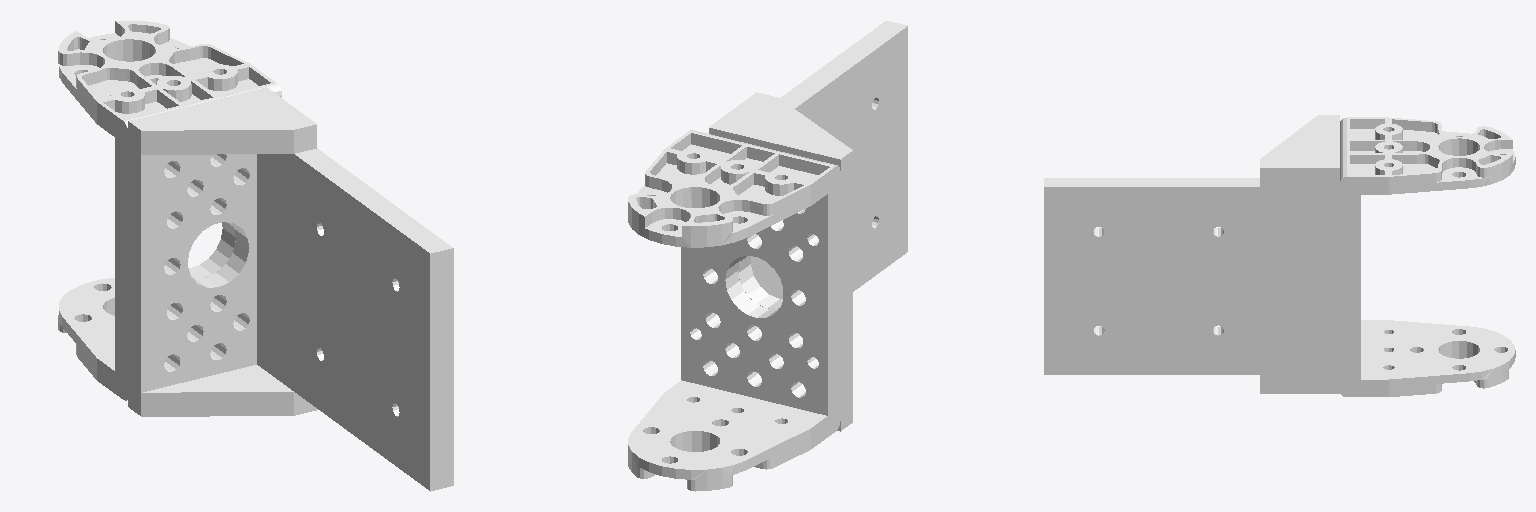
URDF robot description (fingertip):
<?xml version="1.0" encoding="utf-8"?>
<!-- This URDF was automatically created by SolidWorks to URDF Exporter! Originally created by [author] ([email redacted]) 
     Commit Version: 1.6.0-4-g7f85cfe  Build Version: 1.6.7995.38578
     For more information, please see http://wiki.ros.org/sw_urdf_exporter -->
<robot
  name="fingertip">
  <link
    name="fingertip_link">
    <inertial>
      <origin
        xyz="-1.0655850317732E-16 -0.0109741570274734 0.0150901141320541"
        rpy="0 0 0" />
      <mass
        value="0.00278690516682408" />
      <inertia
        ixx="5.70610348662554E-07"
        ixy="5.32605700013683E-23"
        ixz="2.61327802478686E-21"
        iyy="5.38152556216172E-07"
        iyz="5.3398575655495E-10"
        izz="2.16140653173196E-07" />
    </inertial>
    <visual>
      <origin
        xyz="0 0 0"
        rpy="0 0 0" />
      <geometry>
        <mesh
          filename="package://fingertip/meshes/fingertip_link.STL" />
      </geometry>
      <material
        name="">
        <color
          rgba="1 1 1 1" />
      </material>
    </visual>
    <collision>
      <origin
        xyz="0 0 0"
        rpy="0 0 0" />
      <geometry>
        <mesh
          filename="package://fingertip/meshes/fingertip_link.STL" />
      </geometry>
    </collision>
  </link>
  <link
    name="connect_link">
    <inertial>
      <origin
        xyz="0.00411765424561172 -0.0148300279082091 0.01775"
        rpy="0 0 0" />
      <mass
        value="0.00557866650364624" />
      <inertia
        ixx="1.54542696836901E-06"
        ixy="-1.85486908918896E-07"
        ixz="-6.19707771930058E-23"
        iyy="7.02952909902168E-07"
        iyz="1.81104669703813E-22"
        izz="1.09293721480962E-06" />
    </inertial>
    <visual>
      <origin
        xyz="0 0 0"
        rpy="0 0 0" />
      <geometry>
        <mesh
          filename="package://fingertip/meshes/connect_link.STL" />
      </geometry>
      <material
        name="">
        <color
          rgba="1 1 1 1" />
      </material>
    </visual>
    <collision>
      <origin
        xyz="0 0 0"
        rpy="0 0 0" />
      <geometry>
        <mesh
          filename="package://fingertip/meshes/connect_link.STL" />
      </geometry>
    </collision>
  </link>
  <joint
    name="connect_joint"
    type="fixed">
    <origin
      xyz="0.00799999999999977 -0.017 0.03275"
      rpy="3.14159265358979 0 3.14159265358979" />
    <parent
      link="fingertip_link" />
    <child
      link="connect_link" />
    <axis
      xyz="0 0 0" />
  </joint>
  <link
    name="sensor_link">
    <inertial>
      <origin
        xyz="5.45305625092307E-06 0.0133276953059359 -5.04567839394641E-05"
        rpy="0 0 0" />
      <mass
        value="0.0178822084472653" />
      <inertia
        ixx="1.1753392286897E-06"
        ixy="4.11684437840315E-12"
        ixz="-2.43892475858933E-11"
        iyy="2.53546070358439E-06"
        iyz="-2.92731609599382E-09"
        izz="1.78912273862224E-06" />
    </inertial>
    <visual>
      <origin
        xyz="0 0 0"
        rpy="0 0 0" />
      <geometry>
        <mesh
          filename="package://fingertip/meshes/sensor_link.STL" />
      </geometry>
      <material
        name="">
        <color
          rgba="1 1 1 1" />
      </material>
    </visual>
    <collision>
      <origin
        xyz="0 0 0"
        rpy="0 0 0" />
      <geometry>
        <mesh
          filename="package://fingertip/meshes/sensor_link.STL" />
      </geometry>
    </collision>
  </link>
  <joint
    name="sensor_joint"
    type="fixed">
    <origin
      xyz="0.00300000000000001 -0.02575 0.01775"
      rpy="0 0 -1.5707963267949" />
    <parent
      link="connect_link" />
    <child
      link="sensor_link" />
    <axis
      xyz="0 0 0" />
  </joint>
</robot>

--- Facts derived from the render (not from the file) ---
The picture shows the robot from 3 angles, left to right: view 1: azimuth 30°, elevation 25°; view 2: azimuth 150°, elevation 25°; view 3: azimuth 270°, elevation 25°; orthographic projection.
Model fingertip with 3 links and 2 joints (2 fixed), rooted at fingertip_link, posed all joints at 0.
Links seen in each view (by area): view 1: connect_link, fingertip_link; view 2: fingertip_link, connect_link; view 3: connect_link, fingertip_link.
Boxes of the visible links, x1=… form: connect_link: x1=128, y1=87, x2=453, y2=491; fingertip_link: x1=58, y1=20, x2=281, y2=400; fingertip_link: x1=628, y1=130, x2=840, y2=491; connect_link: x1=709, y1=21, x2=907, y2=431; connect_link: x1=1044, y1=115, x2=1339, y2=393; fingertip_link: x1=1340, y1=117, x2=1515, y2=396.
Size in the robot's own frame: 0.02 by 0.067 by 0.0355 metres.
Meshes: 3 distinct files referenced, 2 mesh visuals loaded (2 binary STL); not drawn: 1 (reference not matched to a file when rendering).